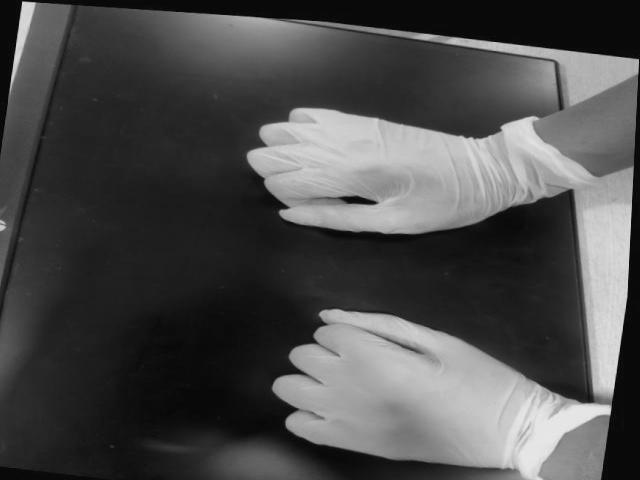gloved: (270, 308, 515, 471), (248, 105, 496, 235)
